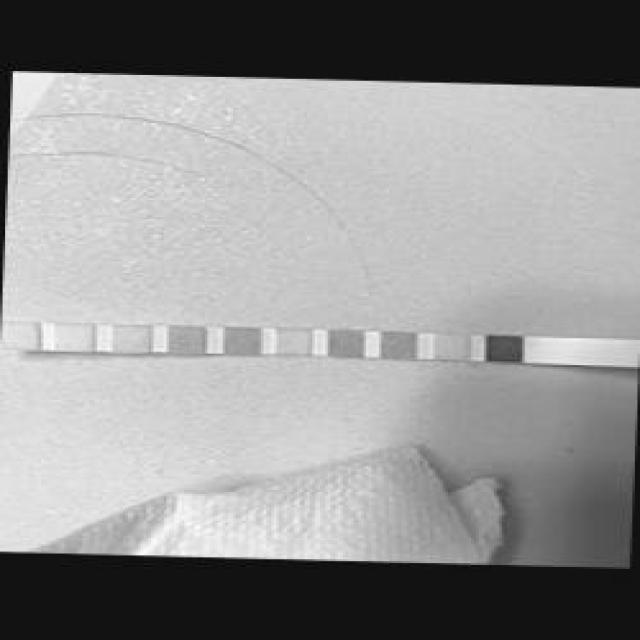Bilirubin: (435, 334, 472, 360)
Blood: (277, 328, 312, 356)
Glucose: (486, 336, 523, 362)
Ketone: (381, 332, 417, 358)
Leukocytes: (3, 322, 39, 351)
Nitrite: (55, 324, 95, 351)
Protein: (169, 326, 205, 354)
SpGravity: (329, 329, 365, 356)
Urobilinogen: (112, 326, 152, 353)
background: (0, 0, 640, 640)
pH: (226, 327, 261, 356)
strip: (2, 322, 637, 368)
